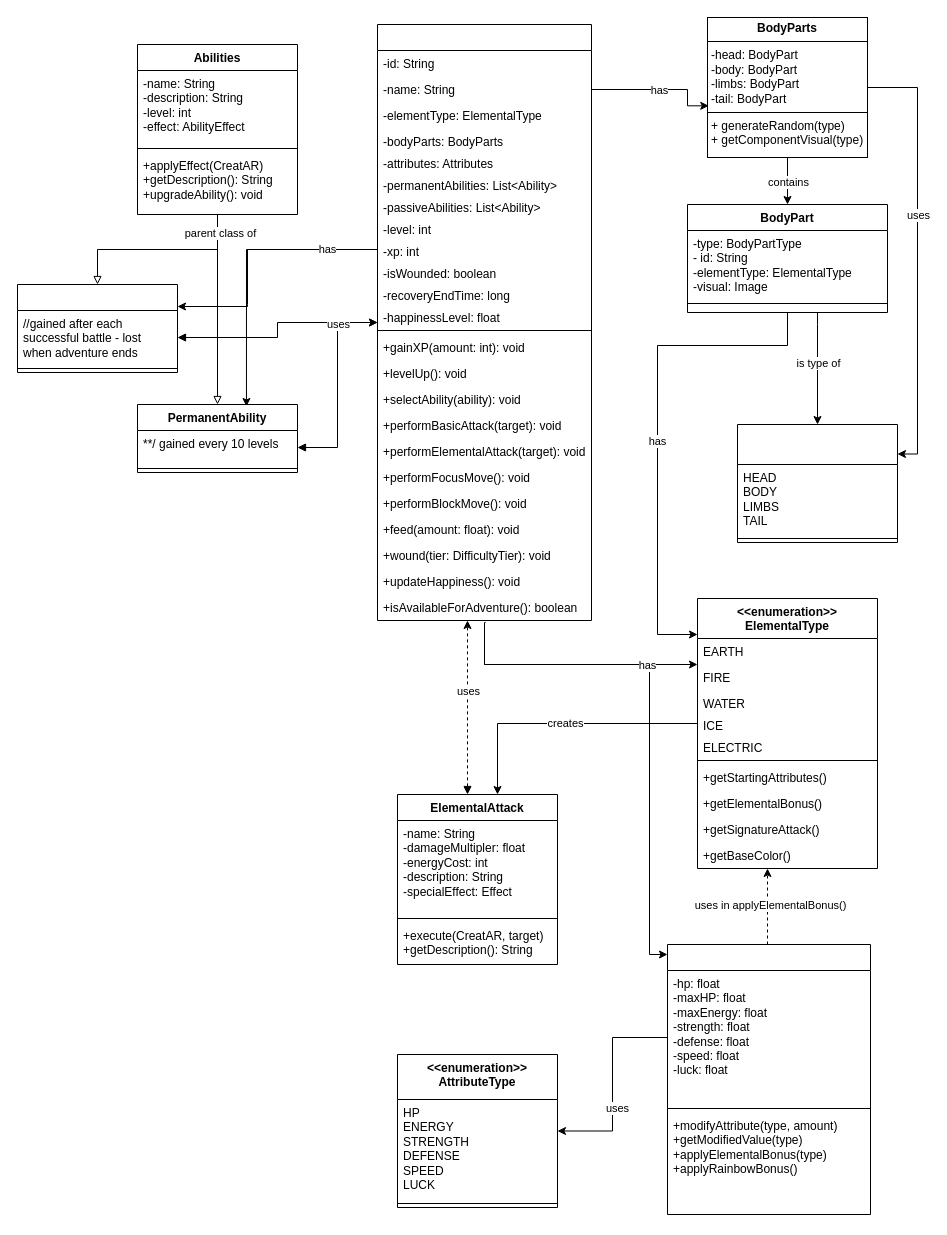
This 947x1235 diagram has some shape labels left out. Here are the shapes that lost their labels. From the top down, the box of each, then its label:
(16, 284, 178, 372): TemporaryAbility
(376, 24, 592, 620): CreatAR
(736, 424, 898, 542): <<enumeration>> BodyPartType
(666, 944, 870, 1214): Attributes
